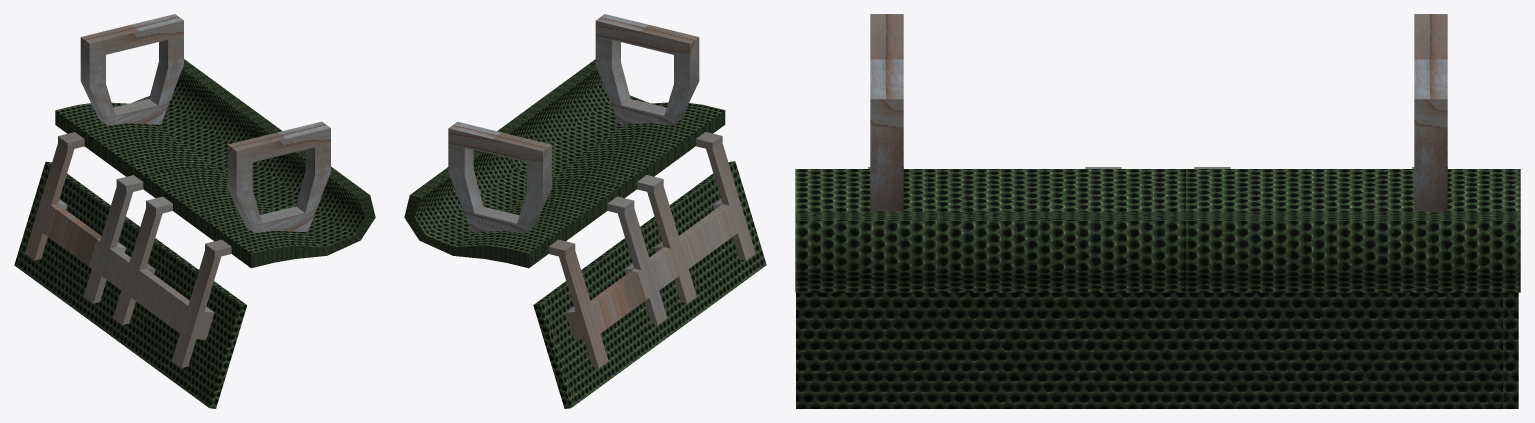
The model's file is banc.fbx.
The picture shows the model from 3 angles, left to right: view 1: azimuth 30°, elevation 25°; view 2: azimuth 150°, elevation 25°; view 3: azimuth 270°, elevation 25°; orthographic projection. The views are drawn at different scales.
Visible parts, largest first — view 1: banc; view 2: banc; view 3: banc.
Part boxes in pixels (left/top/right/bottom): banc: left=14, top=14, right=375, bottom=408; banc: left=404, top=14, right=766, bottom=408; banc: left=795, top=14, right=1520, bottom=408.
Size of the model in its own units: 161 by 205 by 312.
Materials: 2 (2 with a texture image).
